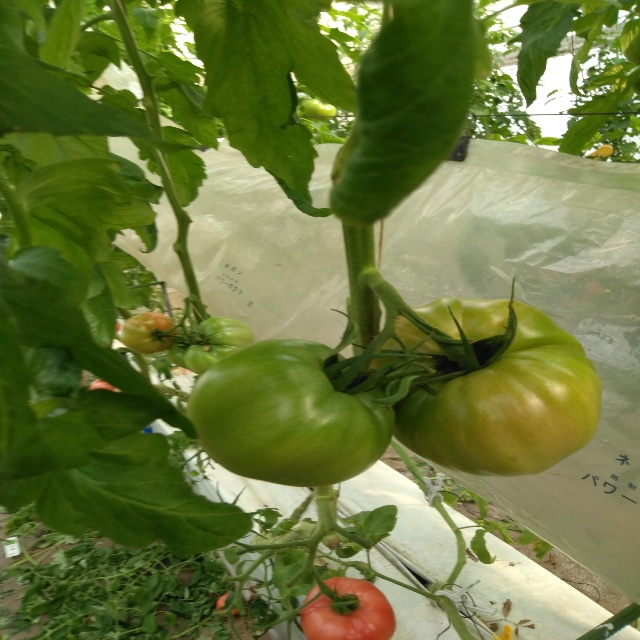b_fully_ripened: (300, 576, 397, 640)
b_green: (366, 296, 603, 477), (188, 338, 396, 488), (184, 315, 254, 376), (167, 325, 197, 369)
b_half_ripened: (122, 311, 177, 353)
